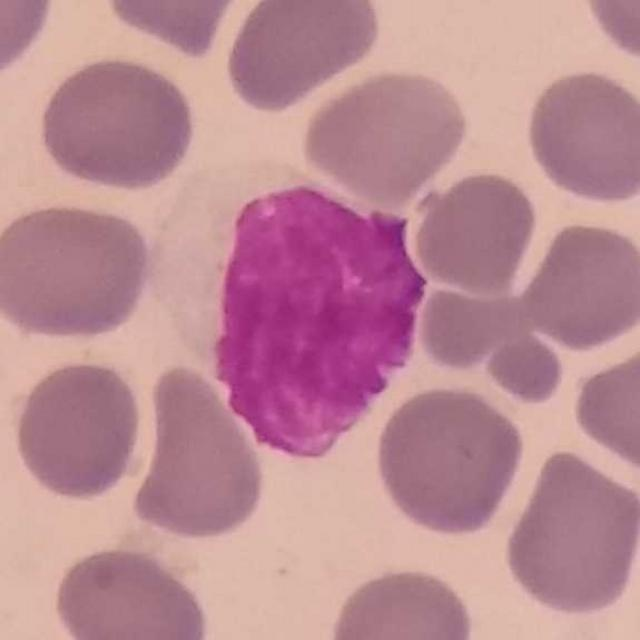Monocyte: (160, 155, 428, 468)
RBC: (126, 360, 268, 544), (370, 380, 528, 540), (500, 444, 640, 620), (300, 63, 472, 206), (34, 51, 200, 195), (0, 196, 156, 345), (9, 355, 147, 503), (220, 0, 387, 115), (408, 167, 541, 297), (521, 65, 640, 208), (517, 217, 640, 351), (49, 542, 215, 640), (324, 562, 480, 640), (567, 337, 640, 476), (412, 280, 514, 374), (96, 0, 252, 59), (480, 329, 568, 406), (0, 0, 60, 83), (577, 0, 640, 68)
